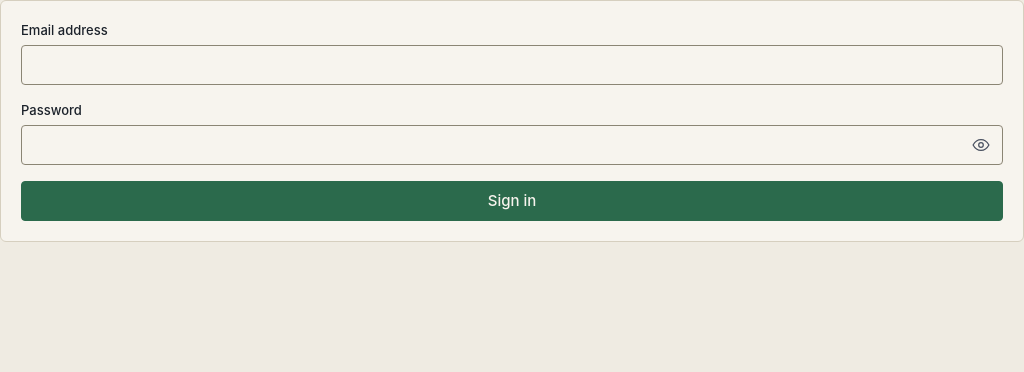
Test case: LoginForm › rejects a malformed email
This screenshot has width=1024, height=372.
In the field labelled "Email address": (512, 65) x1=21 y1=45 x2=1003 y2=85, type "not-an-email"
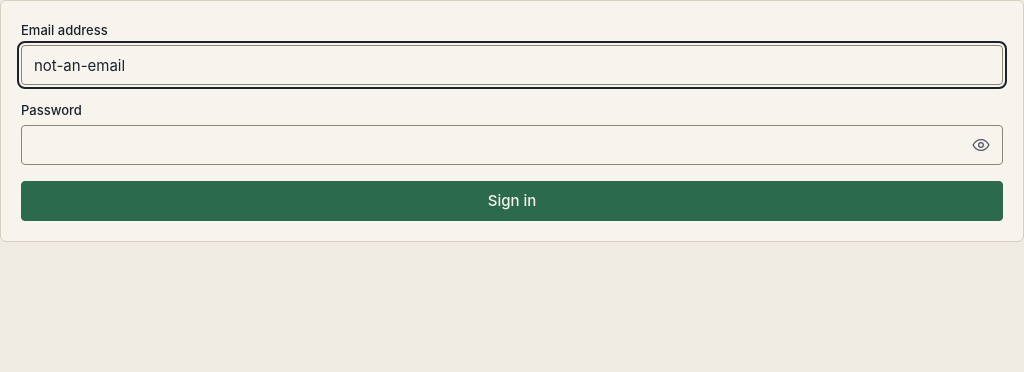
In the password field labelled "Password": (512, 145) x1=21 y1=125 x2=1003 y2=165, type "x"
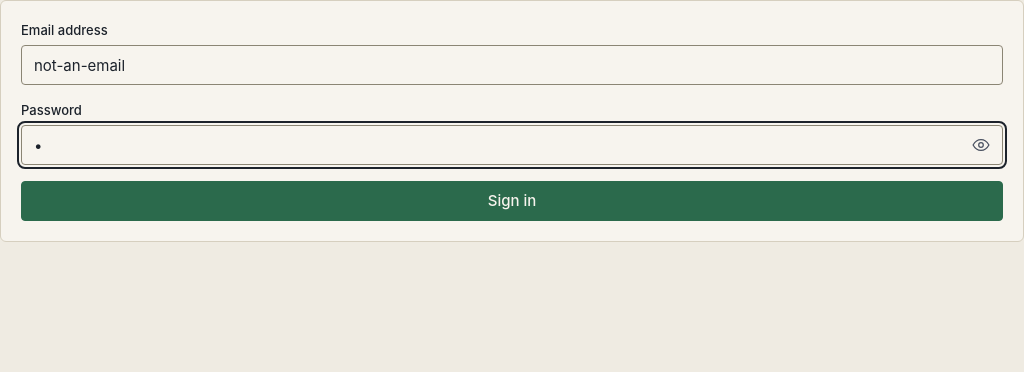
Click the button "Sign in": (512, 201) x1=21 y1=181 x2=1003 y2=221
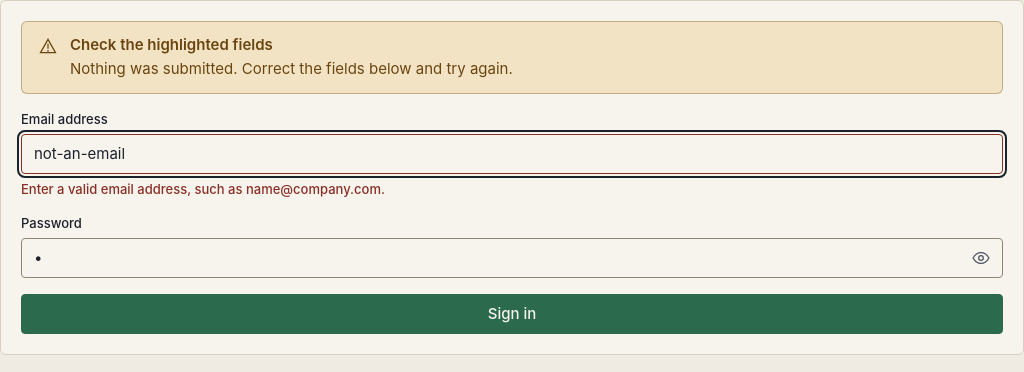
Expected: the text "Enter a valid email address, such as name@company.com." is shown, x1=21 y1=181 x2=385 y2=197
